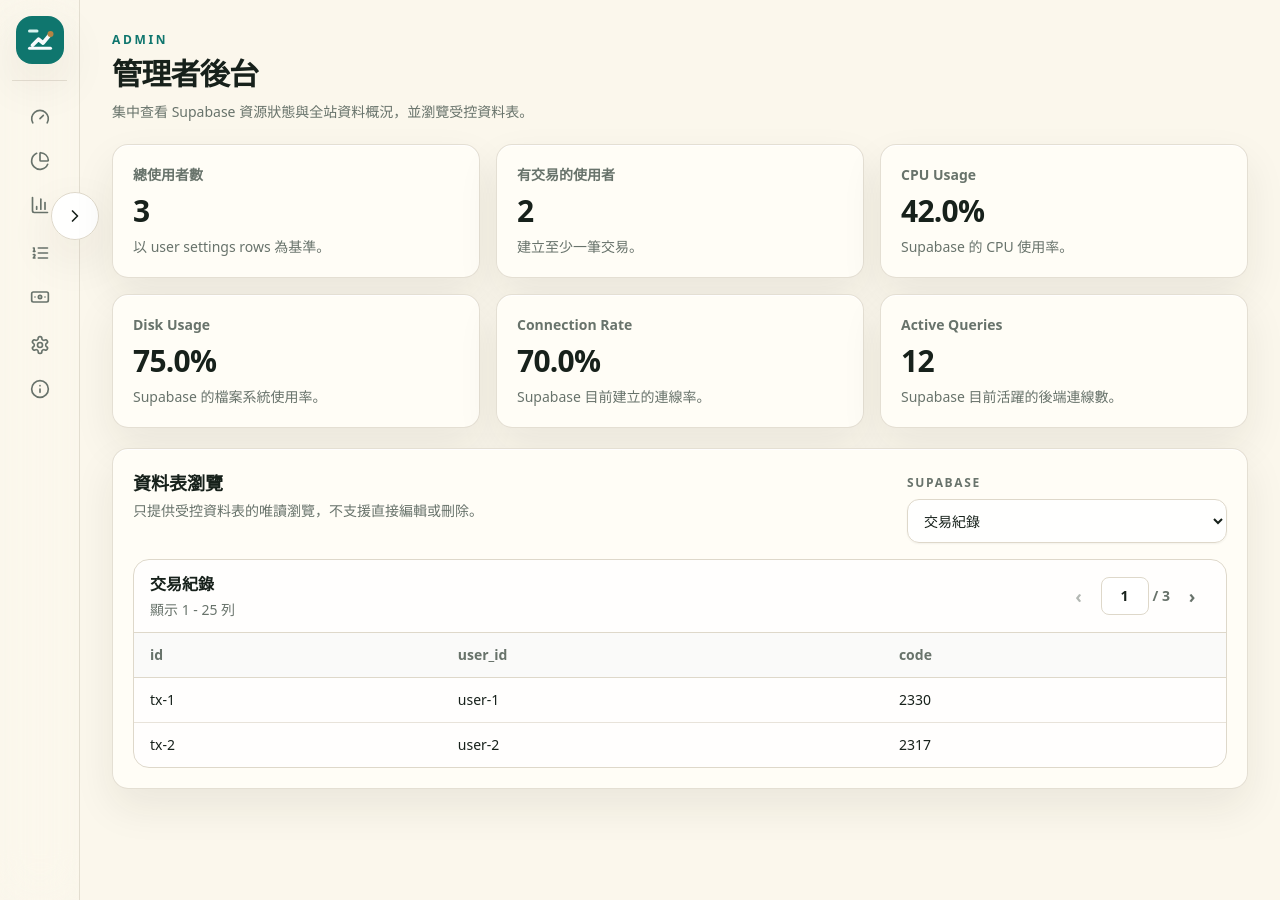
App › switches the selected admin table and reloads the matching rows
Select "使用者設定" in the dropdown labelled "Supabase" at x=1067, y=521, box [907,499,1227,543]
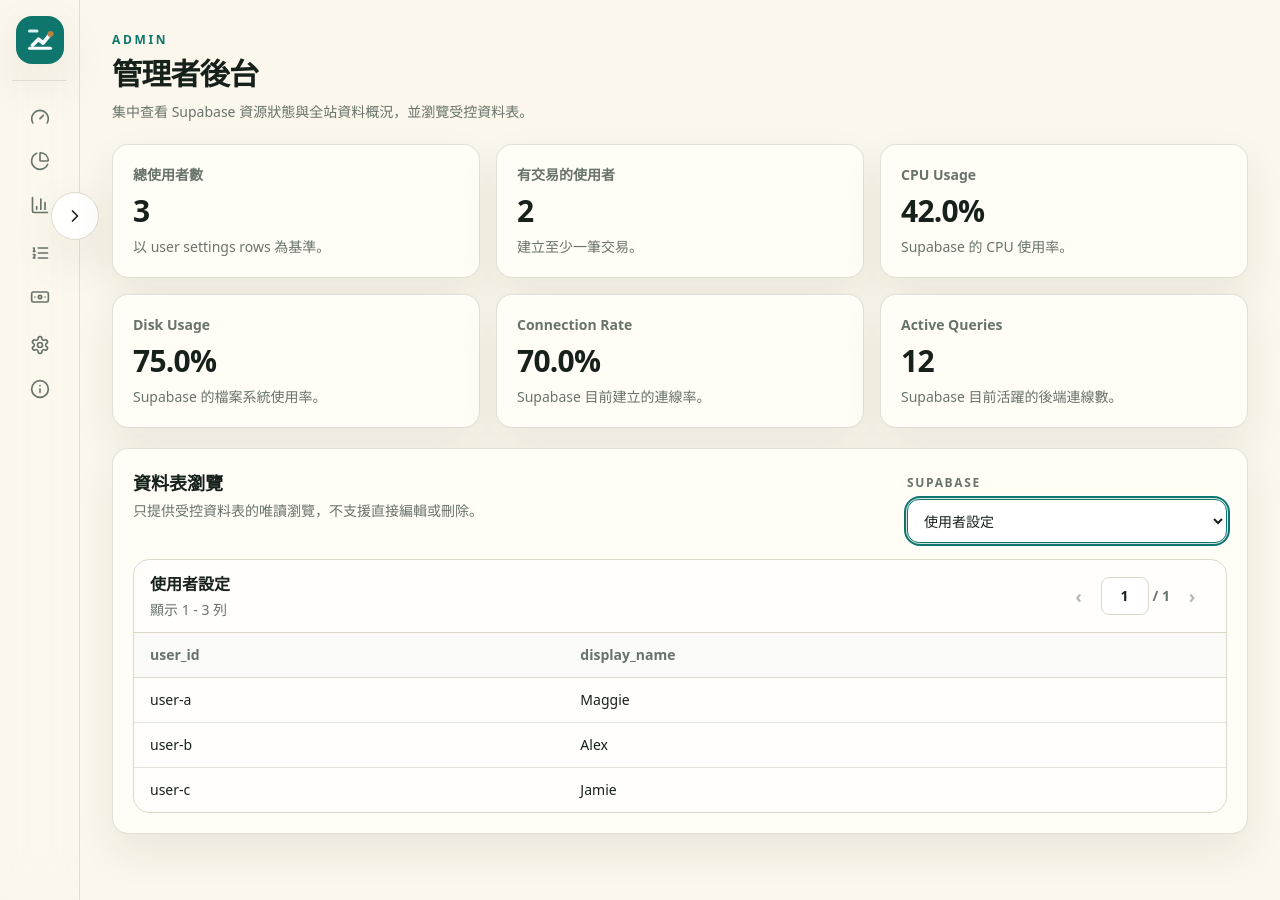
Now the heading "使用者設定" is shown, box [150,572,230,596]
Now the text "顯示 1 - 3 列" is shown, box [150,600,230,620]
Now the text "Maggie" is shown, box [564,678,1226,722]
